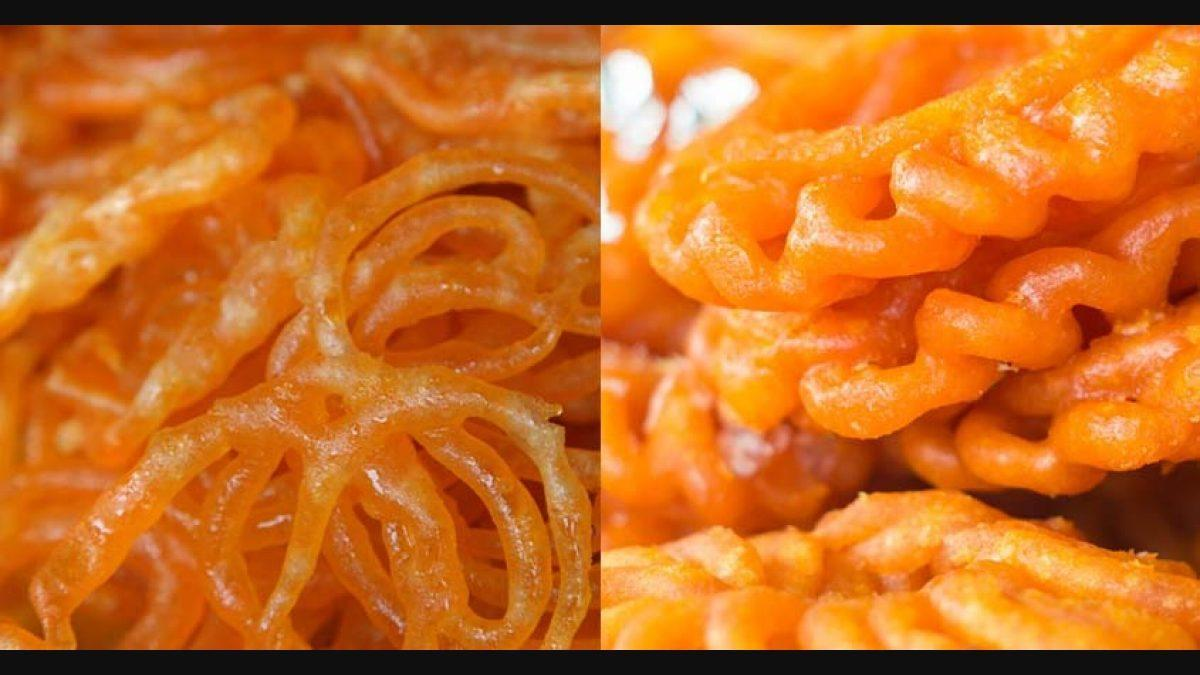jalebi: (6, 25, 1200, 652)
